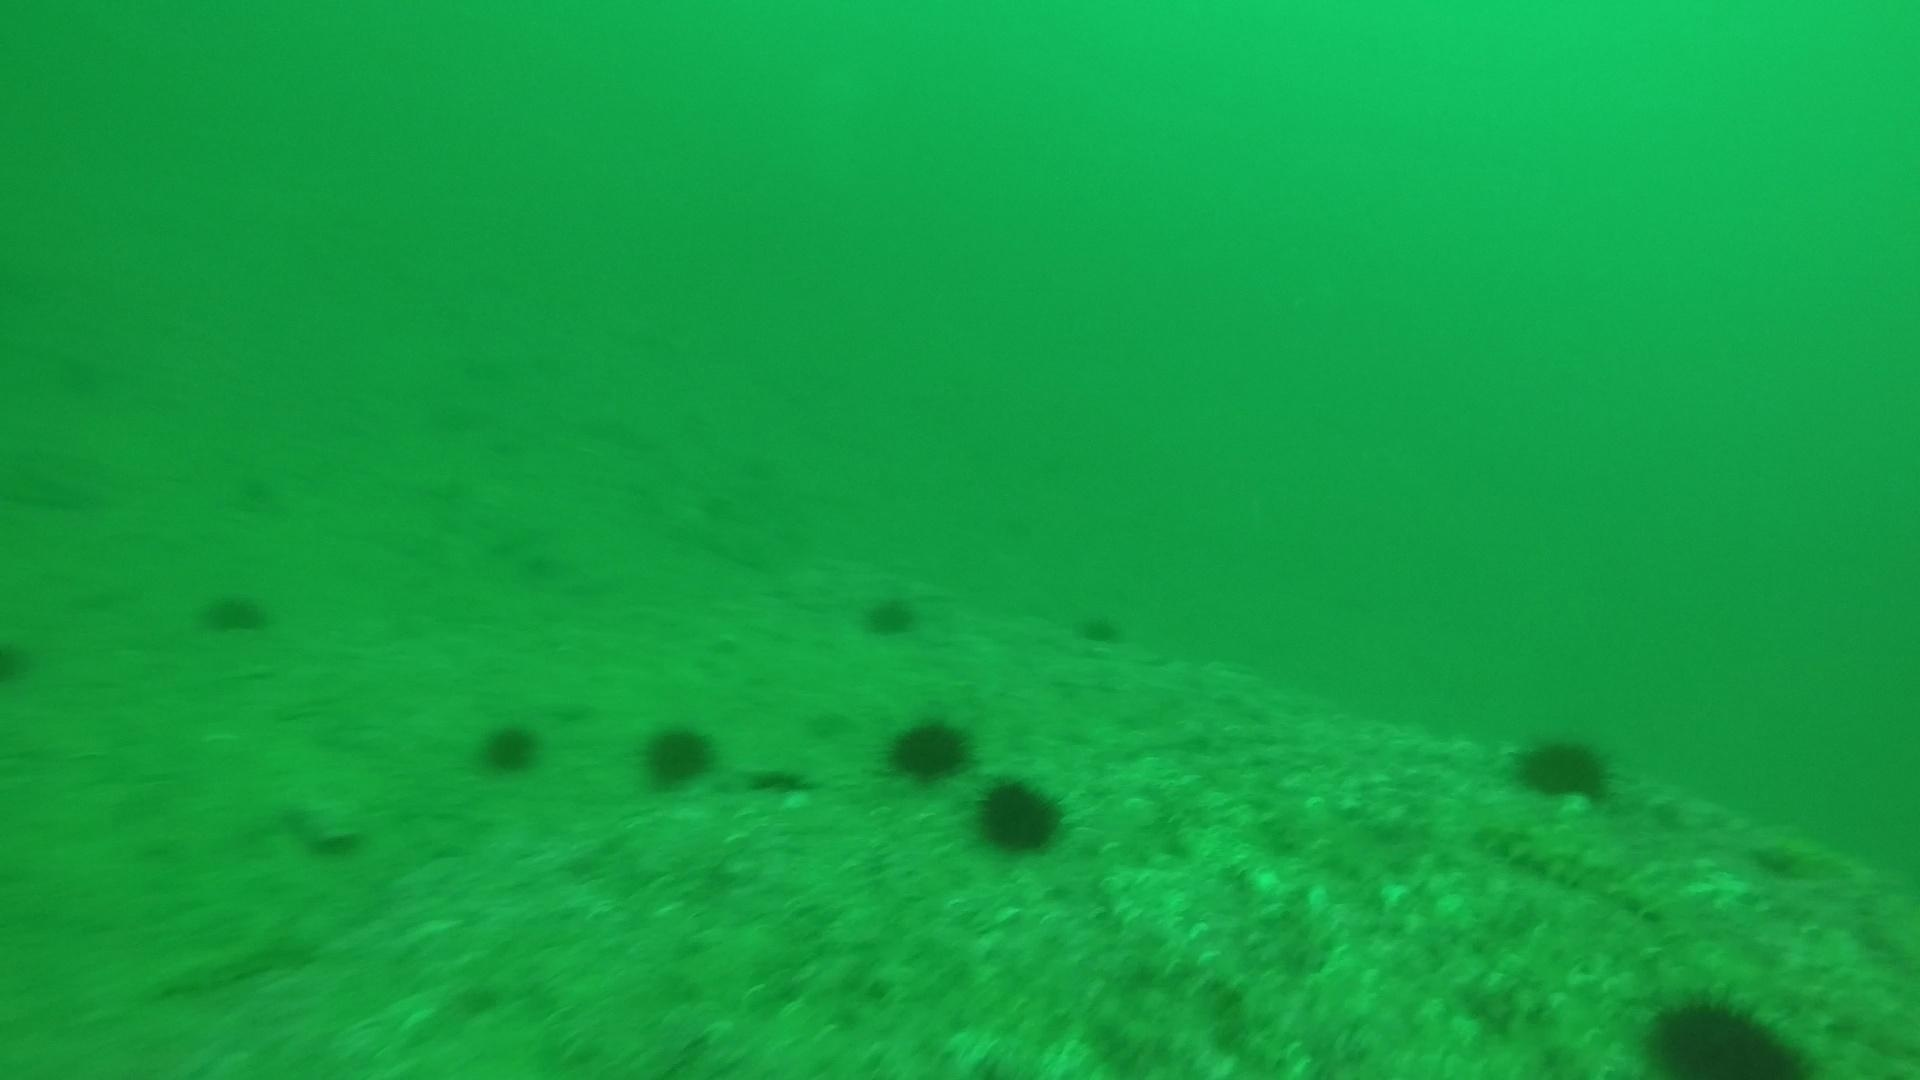echinus: (1640, 986, 1815, 1077), (971, 771, 1068, 858), (1510, 728, 1615, 807), (884, 711, 976, 786), (637, 716, 720, 793), (473, 715, 545, 778), (198, 584, 273, 640), (858, 587, 922, 640), (1073, 607, 1126, 649), (1, 632, 38, 690)
holothurian: (1464, 808, 1676, 928), (135, 922, 314, 1007)
